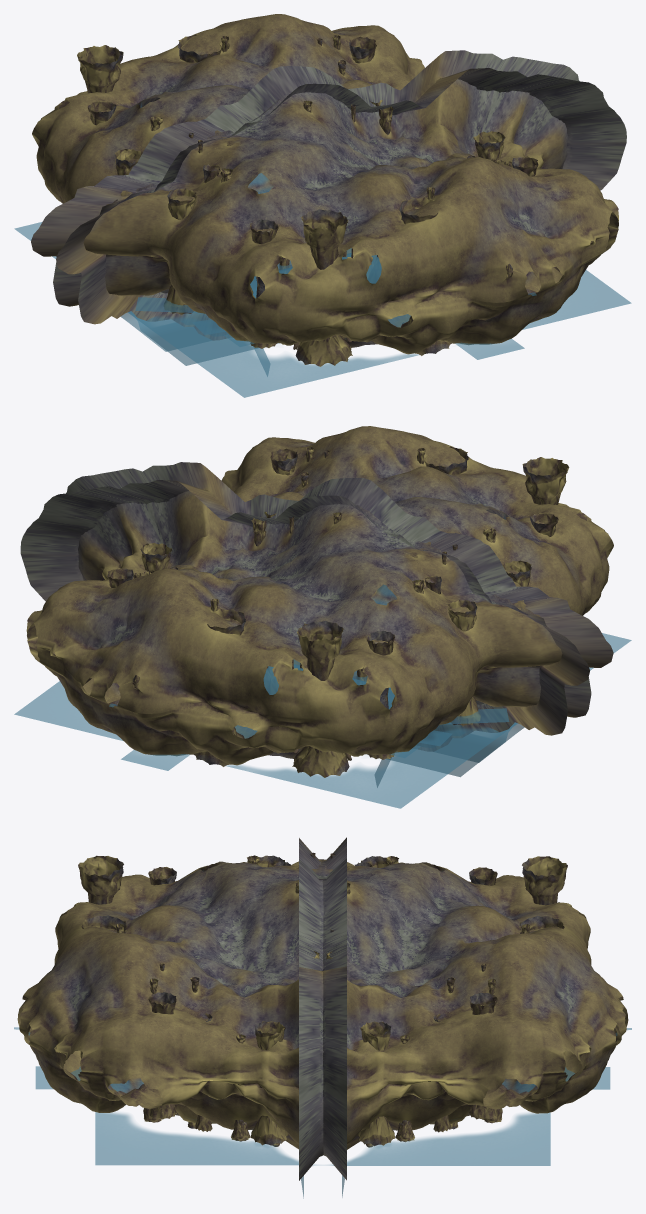
Rendered from cavegltf.gltf.
3 renders of one model, top to bottom at view 1: azimuth 30°, elevation 25°; view 2: azimuth 150°, elevation 25°; view 3: azimuth 270°, elevation 25°, orthographic.
Visible parts, largest first — view 1: Cave_Cave1_0.001, Cave, Water1_Water_0.001, Water1, p5_Column1_0.001, p5, p7_Column1_0.001, Water8_Water_0.001, p1_Column1_0.001, p6_Column2_0.001, Water2_Water_0.001, p3_Column1_0.001 (+1 smaller); view 2: Cave, Cave_Cave1_0.001, Water1, Water1_Water_0.001, p5, p5_Column1_0.001, p7, Water8, p1, p6, Water2, p3 (+1 smaller); view 3: Cave, Cave_Cave1_0.001, Water1_Water_0.001, Water1, p5_Column1_0.001, p5, p3, p3_Column1_0.001, p4, p4_Column2_0.001, Water2_Water_0.001, Water2.
Boxes of the visible parts, x1=… form: Cave_Cave1_0.001: x1=31, y1=50, x2=618, y2=354; Cave: x1=32, y1=14, x2=626, y2=340; Water1_Water_0.001: x1=121, y1=253, x2=631, y2=397; Water1: x1=14, y1=187, x2=381, y2=365; p5_Column1_0.001: x1=295, y1=209, x2=352, y2=366; p5: x1=77, y1=45, x2=123, y2=93; p7_Column1_0.001: x1=163, y1=188, x2=196, y2=315; Water8_Water_0.001: x1=135, y1=297, x2=269, y2=376; p1_Column1_0.001: x1=399, y1=197, x2=451, y2=355; p6_Column2_0.001: x1=250, y1=219, x2=278, y2=348; Water2_Water_0.001: x1=455, y1=339, x2=524, y2=359; p3_Column1_0.001: x1=473, y1=131, x2=505, y2=161; Cave: x1=26, y1=462, x2=613, y2=765; Cave_Cave1_0.001: x1=20, y1=426, x2=613, y2=751; Water1: x1=14, y1=664, x2=524, y2=808; Water1_Water_0.001: x1=264, y1=598, x2=631, y2=776; p5: x1=292, y1=620, x2=349, y2=777; p5_Column1_0.001: x1=522, y1=457, x2=569, y2=504; p7: x1=447, y1=599, x2=480, y2=726; Water8: x1=375, y1=708, x2=509, y2=787; p1: x1=193, y1=608, x2=245, y2=766; p6: x1=366, y1=631, x2=394, y2=759; Water2: x1=121, y1=750, x2=189, y2=770; p3: x1=140, y1=543, x2=171, y2=573; Cave: x1=299, y1=838, x2=628, y2=1180; Cave_Cave1_0.001: x1=17, y1=837, x2=346, y2=1180; Water1_Water_0.001: x1=95, y1=1080, x2=344, y2=1197; Water1: x1=301, y1=1080, x2=550, y2=1198; p5_Column1_0.001: x1=78, y1=855, x2=123, y2=904; p5: x1=522, y1=856, x2=567, y2=905; p3: x1=357, y1=1021, x2=394, y2=1146; p3_Column1_0.001: x1=251, y1=1021, x2=288, y2=1145; p4: x1=469, y1=992, x2=497, y2=1119; p4_Column2_0.001: x1=148, y1=992, x2=176, y2=1119; Water2_Water_0.001: x1=35, y1=1066, x2=131, y2=1092; Water2: x1=514, y1=1067, x2=610, y2=1093.
Bounding box in the file's own units: 105 × 44.93 × 99.96.
Materials: 7 (7 with a texture image).
